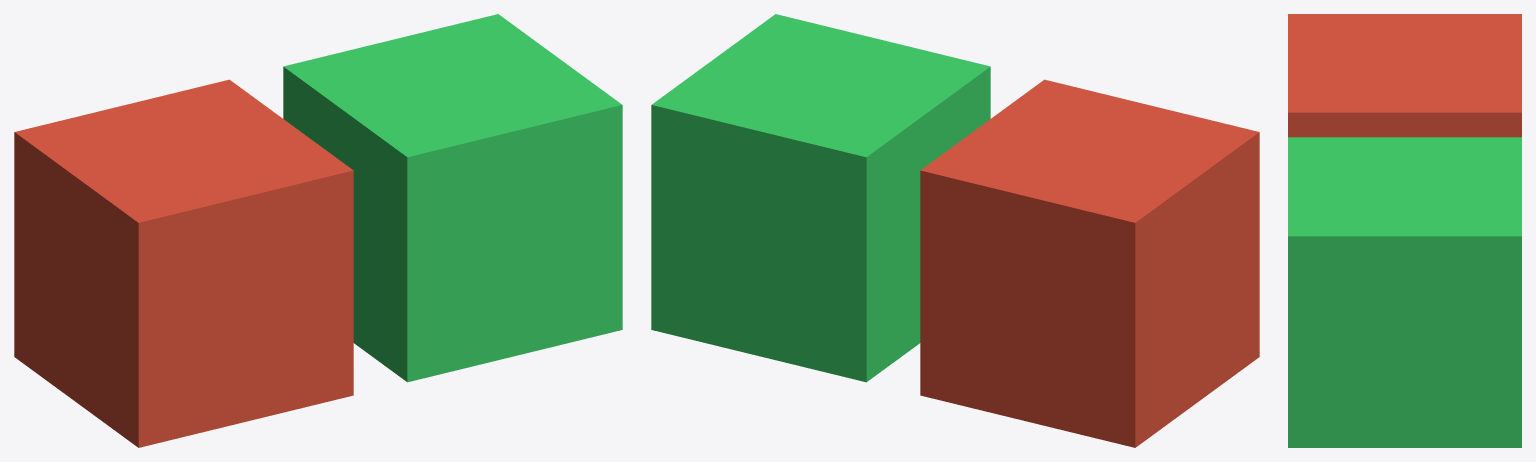
Rendered from preview.glb.
3 renders of one model, left to right at view 1: azimuth 30°, elevation 25°; view 2: azimuth 150°, elevation 25°; view 3: azimuth 270°, elevation 25°, orthographic. The views are drawn at different scales.
Visible parts, largest first — view 1: uploaded_asset; view 2: uploaded_asset; view 3: uploaded_asset.
Part boxes in pixels (bbox=[...]): uploaded_asset: bbox=[14, 14, 622, 447]; uploaded_asset: bbox=[651, 14, 1259, 447]; uploaded_asset: bbox=[1288, 14, 1521, 447].
Bounding box in the file's own units: 2.6 × 1.16 × 1.16.
